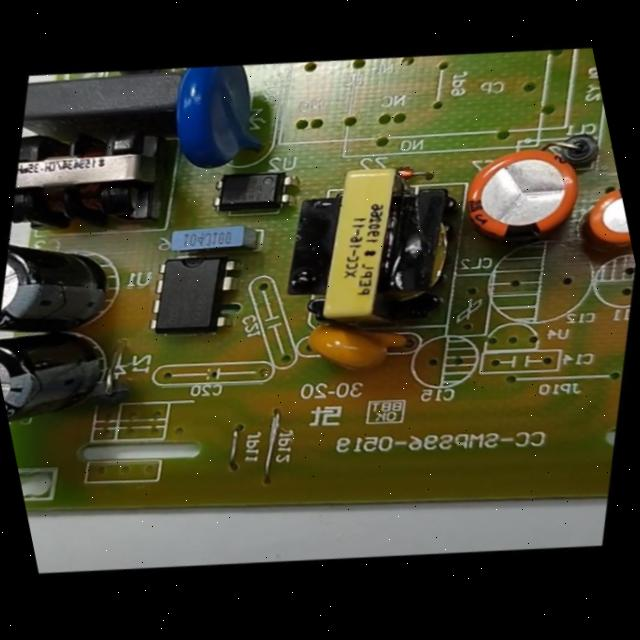Cap1: (417, 107, 615, 286)
Cap2: (559, 169, 633, 265)
Transformer: (233, 130, 519, 375)
